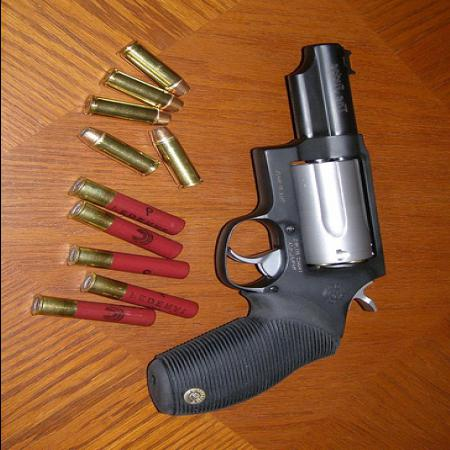Pistol: (146, 42, 388, 418)
